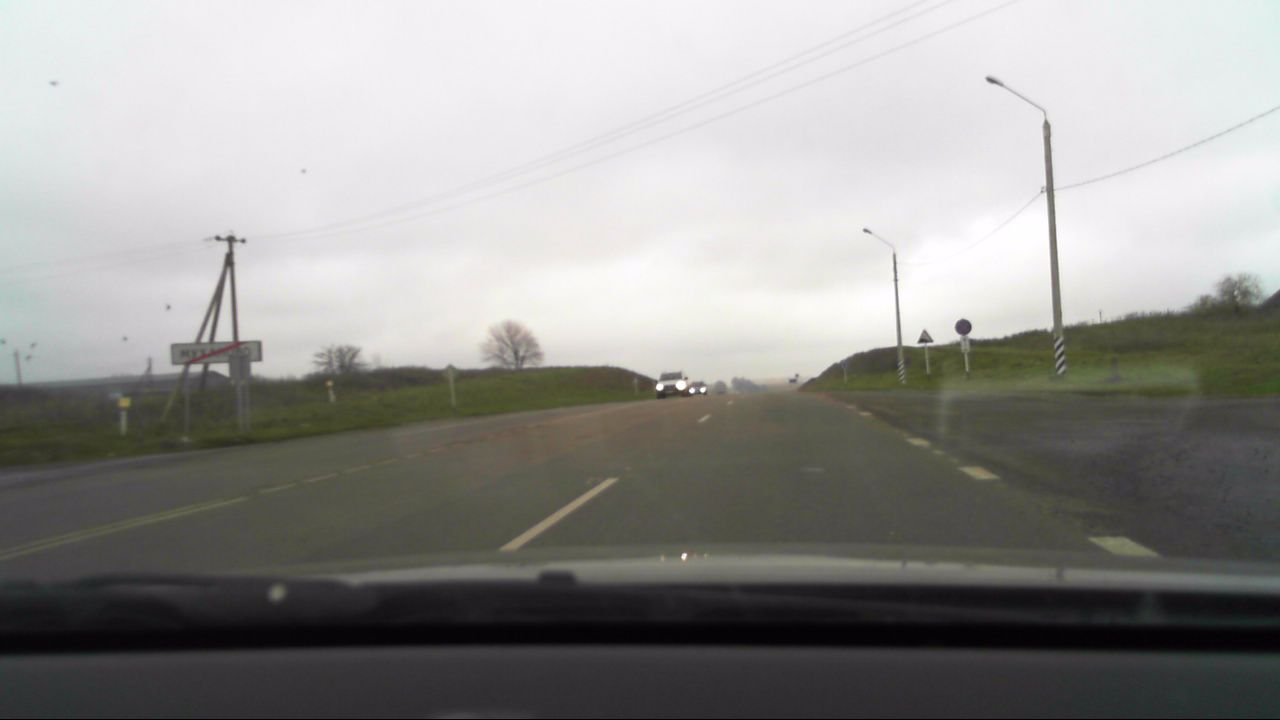No Parking: (953, 316, 973, 335)
